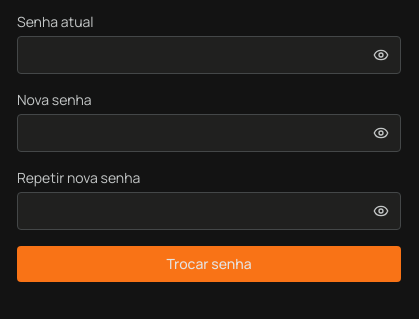
Test: ChangePasswordForm › não envia nada quando a nova senha é curta e mostra o erro
The width and height of the screenshot is (419, 319).
Type "senha-atual-123" into the password field labelled "Senha atual" at [209, 55], box [17,36,401,74]
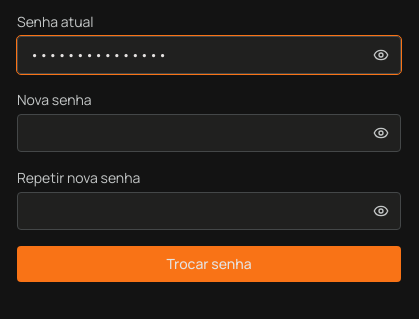
Type "curta" into the password field labelled "Nova senha" at [209, 133], box [17,114,401,152]
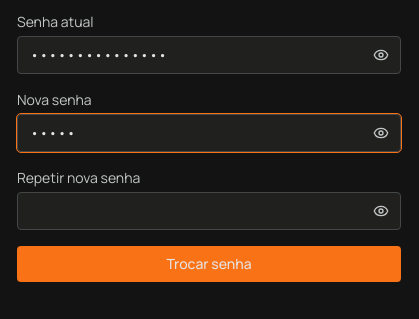
Type "curta" into the password field labelled "Repetir nova senha" at [209, 211], box [17,192,401,230]
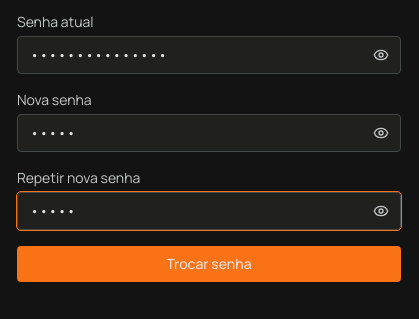
Click the button "Trocar senha" at [209, 264], box [17,246,401,282]
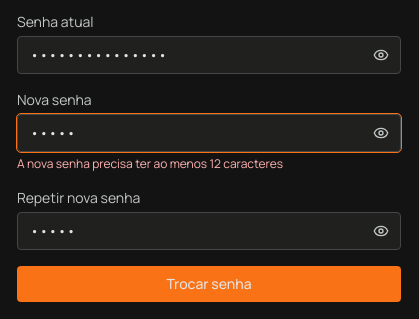
Now the text "A nova senha precisa ter ao menos 12 caracteres" is shown, box [17,155,283,172]
